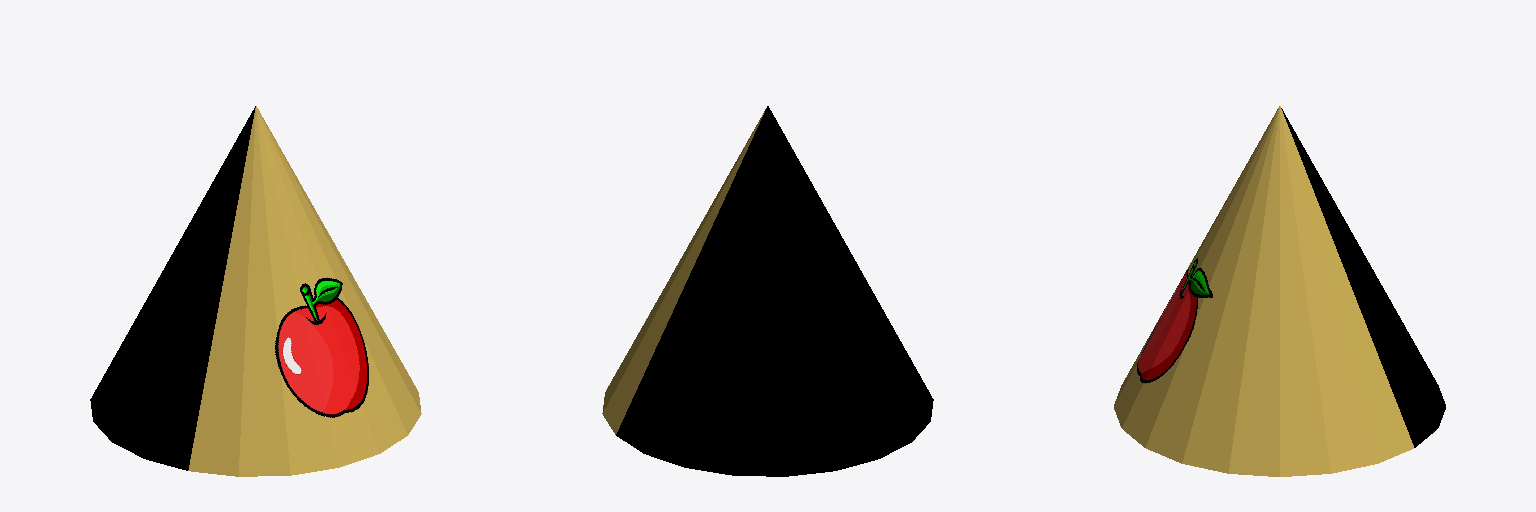
3 renders of one model, left to right at view 1: azimuth 30°, elevation 25°; view 2: azimuth 150°, elevation 25°; view 3: azimuth 270°, elevation 25°, orthographic.
Visible parts, largest first — view 1: pCone1; view 2: pCone1; view 3: pCone1.
Boxes of the visible parts, <box> form: pCone1: <box>90,106,421,476</box>; pCone1: <box>602,106,933,476</box>; pCone1: <box>1114,106,1445,476</box>.
Size of the model in its own units: 6.62 by 6.62 by 6.62.
1 materials, 1 textured.